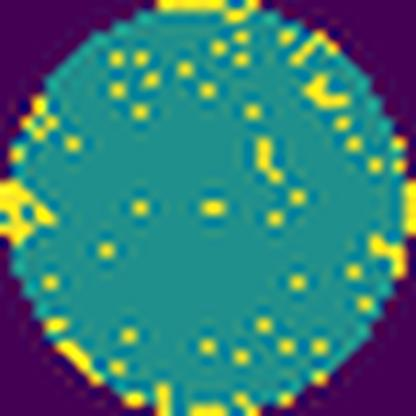Edge-Loc: (0, 173, 59, 249)
